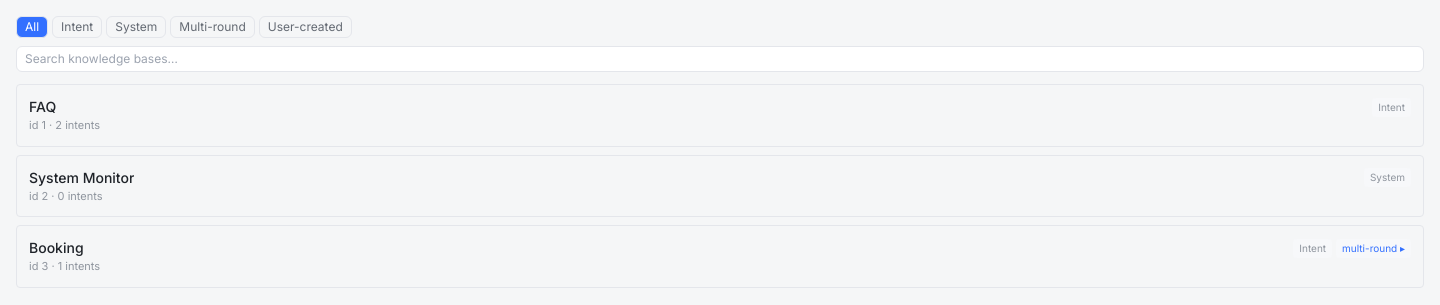
KBPlane filters › searches by title
This screenshot has width=1440, height=305.
Type "faq" into the field with test id "kb-search". click: x=720, y=59
box: [16,46,1424,72]
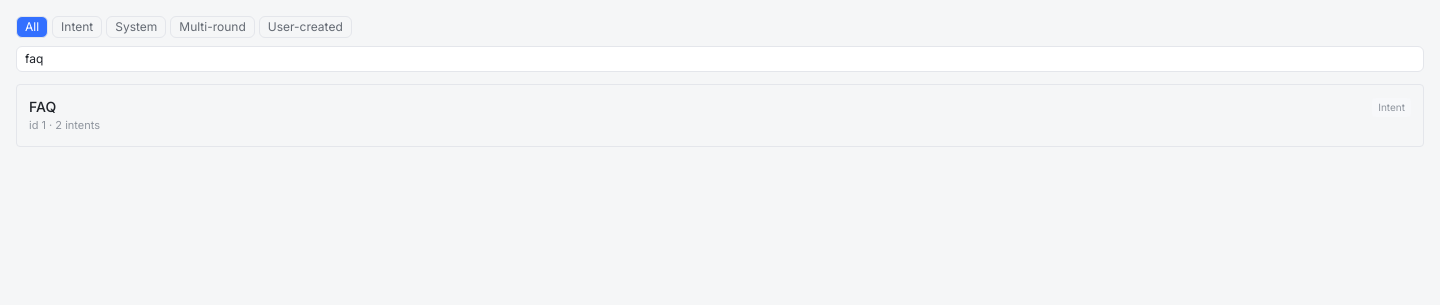
Now the number of list items with test id "kb-row" is 1, box [16,84,1424,146]
